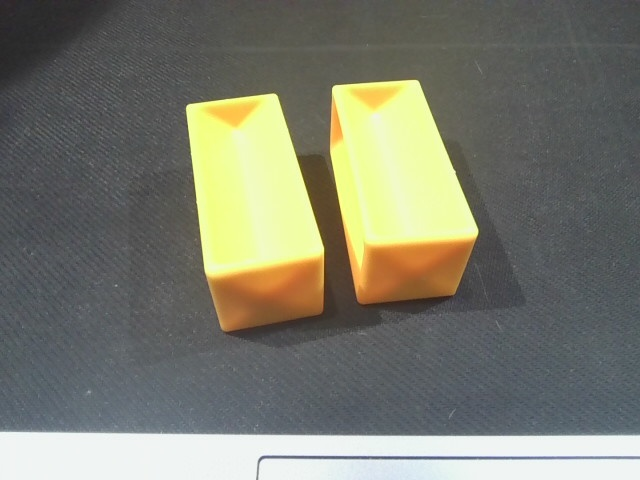YellowSample: (324, 78, 482, 313), (181, 88, 332, 333)
